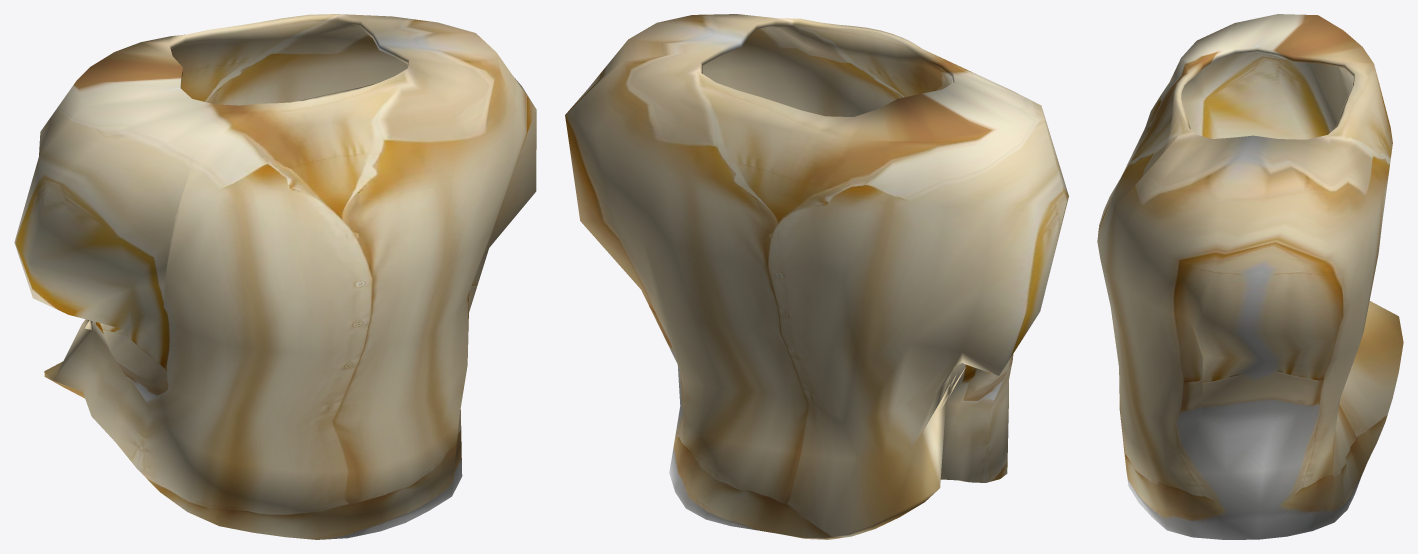
The picture shows the model from 3 angles, left to right: view 1: azimuth 30°, elevation 25°; view 2: azimuth 150°, elevation 25°; view 3: azimuth 270°, elevation 25°; orthographic projection. The views are drawn at different scales.
Parts seen in each view (by area): view 1: garment; view 2: garment; view 3: garment.
Boxes of the visible parts, x1,y1,x2,y2 form: garment: [14, 14, 536, 539]; garment: [565, 14, 1068, 539]; garment: [1097, 14, 1403, 539].
Bounding box in the file's own units: 0.5424 × 0.4721 × 0.3384.
Materials: 1 (1 with a texture image).
